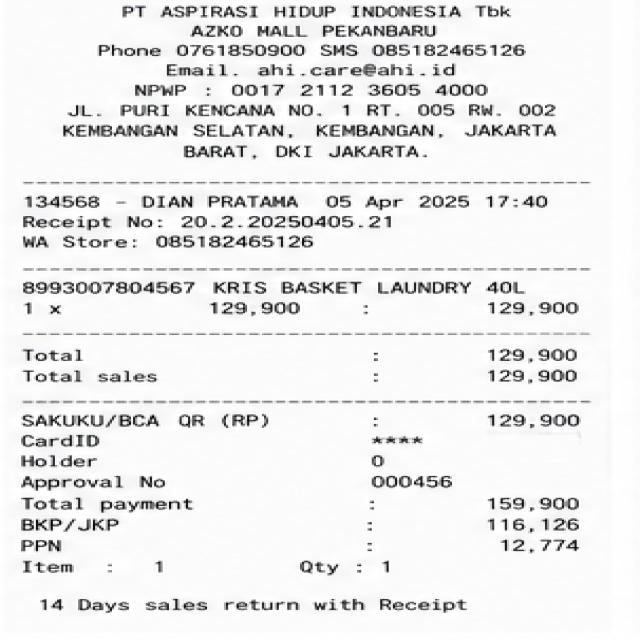date: (323, 193, 557, 210)
store: (115, 0, 522, 39)
total: (21, 495, 591, 514)
